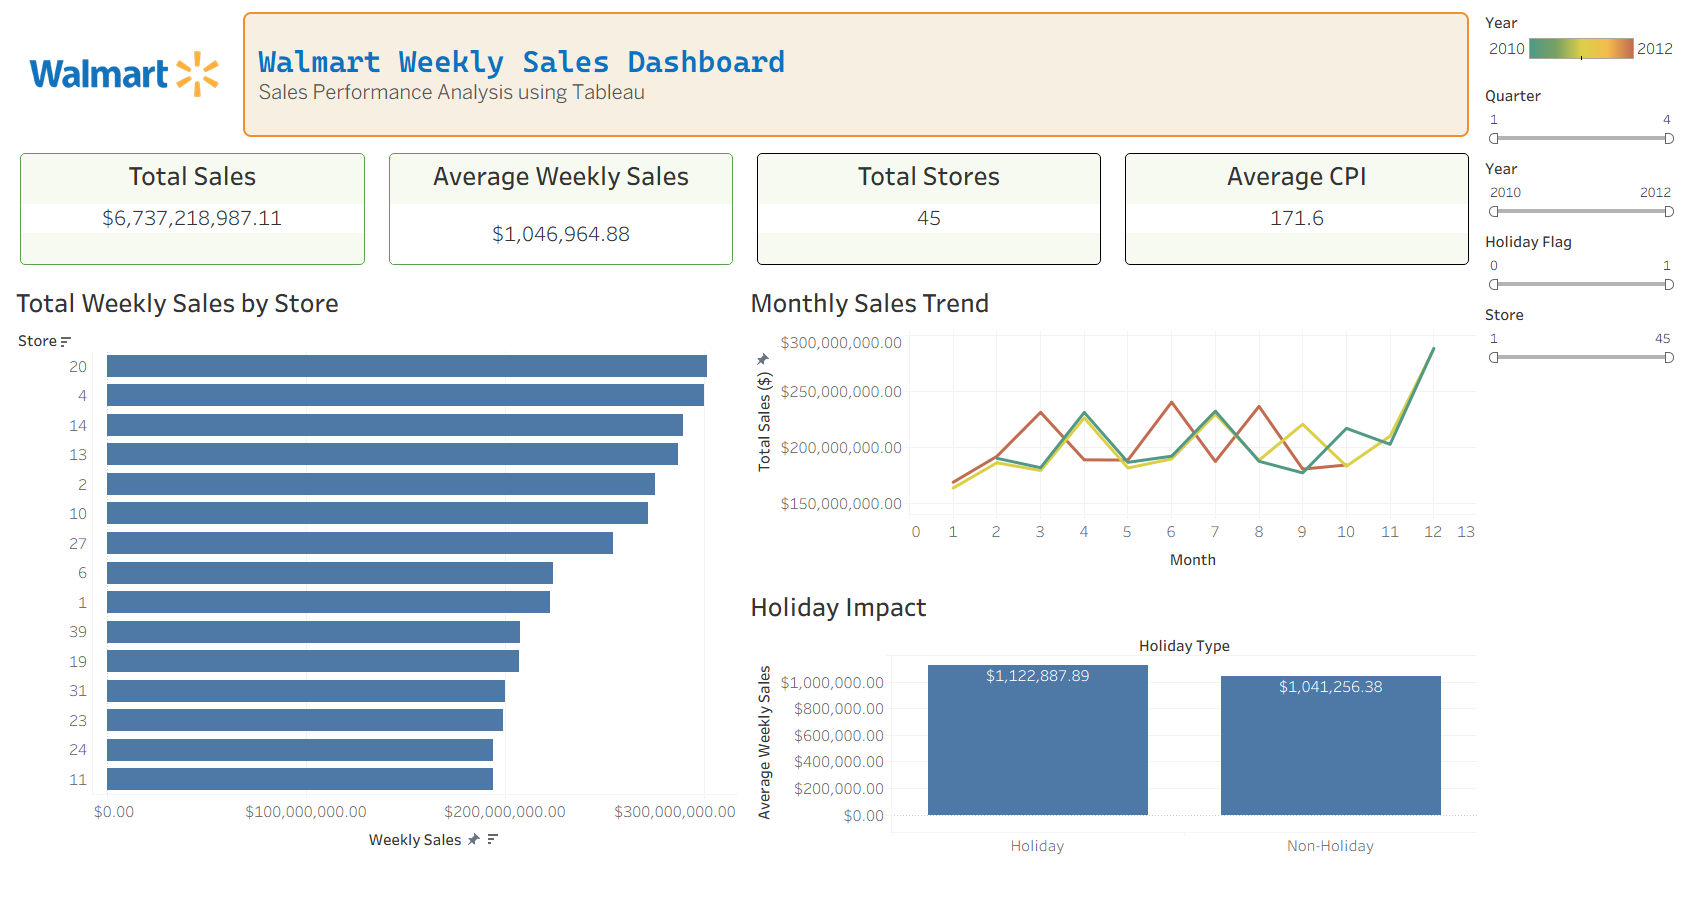

Layout of this report page (visuals, bound fields, positions):
{"tool":"tableau","page":{"name":"Walmart Sales Dashboard","canvas":[1000,1000],"units":"permille","ordinal":0},"visuals":[{"type":"image","param":"C:/Users/sankp/Downloads/wallmart_logo-removebg-preview.png","box":[4.8,9.4,119.5,126.9]},{"type":"text","box":[124.3,9.4,749.6,126.9]},{"type":"legend","title":"Monthly Sales Trend","param":"[federated.1npjtui1qsuves1a3x4ua05ul9u2].[none:Year:qk]","box":[873.9,9.4,121.3,85.8]},{"type":"filter","title":"Average CPI","param":"[federated.1npjtui1qsuves1a3x4ua05ul9u2].[none:Quarter:qk]","box":[873.9,95.2,121.3,85.8]},{"type":"worksheet","title":"Total Sales","mark":"Automatic","box":[4.8,136.3,217.3,130.4]},{"type":"worksheet","title":"Average Weekly Sales","mark":"Automatic","box":[222.1,136.3,217.3,130.4]},{"type":"worksheet","title":"Total Stores","mark":"Automatic","box":[439.4,136.3,217.3,130.4]},{"type":"worksheet","title":"Average CPI","mark":"Automatic","box":[656.6,136.3,217.3,130.4]},{"type":"filter","title":"Average CPI","param":"[federated.1npjtui1qsuves1a3x4ua05ul9u2].[none:Year:qk]","box":[873.9,181,121.3,85.8]},{"type":"worksheet","title":"Total Weekly Sales by Store","mark":"Bar","rows":["Store"],"cols":["Weekly_Sales"],"box":[4.8,266.7,433,686.2]},{"type":"worksheet","title":"Monthly Sales Trend","mark":"Line","rows":["Weekly_Sales"],"cols":["Month"],"box":[437.8,266.7,436,357.2]},{"type":"filter","title":"Average CPI","param":"[federated.1npjtui1qsuves1a3x4ua05ul9u2].[none:Holiday_Flag:qk]","box":[873.9,266.7,121.3,85.8]},{"type":"filter","title":"Average CPI","param":"[federated.1npjtui1qsuves1a3x4ua05ul9u2].[none:Store:qk]","box":[873.9,352.5,121.3,85.8]},{"type":"worksheet","title":"Holiday Impact","mark":"Bar","rows":["Weekly_Sales"],"cols":["Calculation_2740563729866752"],"box":[437.8,623.9,436,329.1]}]}

Visuals, with their boxes on the dashboard's canvas, which has no fixed pixel size, in thousandths of its width and height (x1, y1, x2, y2). These are canvas units, not pixel positions in the 1702x897 screenshot, which may show the page scaled, cropped or inside an application window:
image: x1=5 y1=9 x2=124 y2=136
text: x1=124 y1=9 x2=874 y2=136
"Monthly Sales Trend" legend: x1=874 y1=9 x2=995 y2=95
"Average CPI" filter: x1=874 y1=95 x2=995 y2=181
"Total Sales" worksheet: x1=5 y1=136 x2=222 y2=267
"Average Weekly Sales" worksheet: x1=222 y1=136 x2=439 y2=267
"Total Stores" worksheet: x1=439 y1=136 x2=657 y2=267
"Average CPI" worksheet: x1=657 y1=136 x2=874 y2=267
"Average CPI" filter: x1=874 y1=181 x2=995 y2=267
"Total Weekly Sales by Store" worksheet (Bar marks): x1=5 y1=267 x2=438 y2=953
"Monthly Sales Trend" worksheet (Line marks): x1=438 y1=267 x2=874 y2=624
"Average CPI" filter: x1=874 y1=267 x2=995 y2=352
"Average CPI" filter: x1=874 y1=352 x2=995 y2=438
"Holiday Impact" worksheet (Bar marks): x1=438 y1=624 x2=874 y2=953
